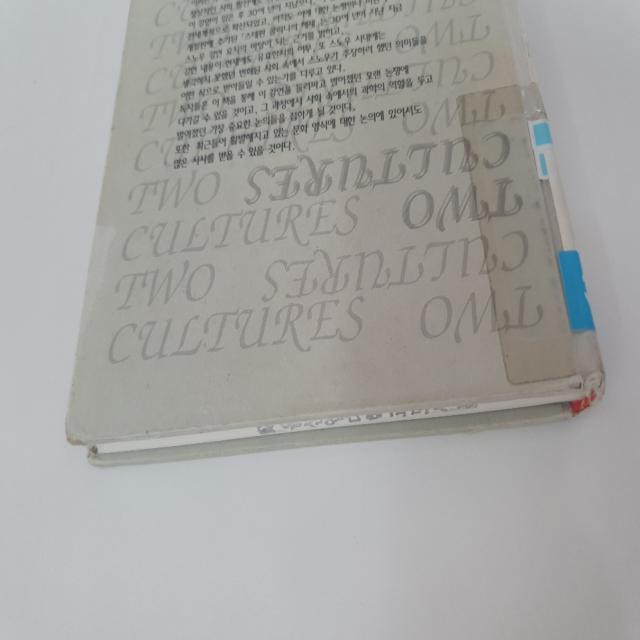Ripped: (524, 358, 616, 406), (514, 24, 542, 80)
Wornout: (274, 394, 443, 427), (92, 414, 274, 442), (62, 345, 94, 448), (98, 113, 124, 196)
